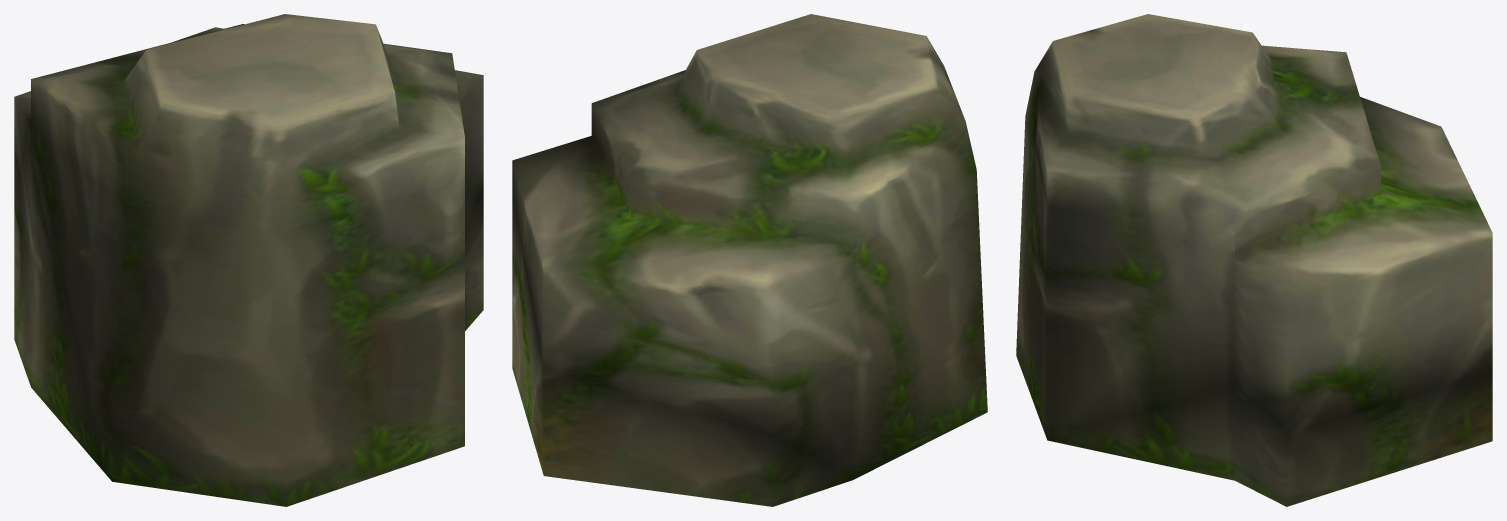
The model's file is RockFormation_4_5 (35).fbx.
The picture shows the model from 3 angles, left to right: view 1: azimuth 30°, elevation 25°; view 2: azimuth 150°, elevation 25°; view 3: azimuth 270°, elevation 25°; orthographic projection. The views are drawn at different scales.
Parts seen in each view (by area): view 1: RockFormation_4_5 (35); view 2: RockFormation_4_5 (35); view 3: RockFormation_4_5 (35).
Part boxes in pixels (x1=…): RockFormation_4_5 (35): x1=14, y1=14, x2=483, y2=506; RockFormation_4_5 (35): x1=512, y1=14, x2=987, y2=506; RockFormation_4_5 (35): x1=1016, y1=14, x2=1492, y2=506.
Bounding box in the file's own units: 378 × 287 × 387.
1 material, 1 textured.
